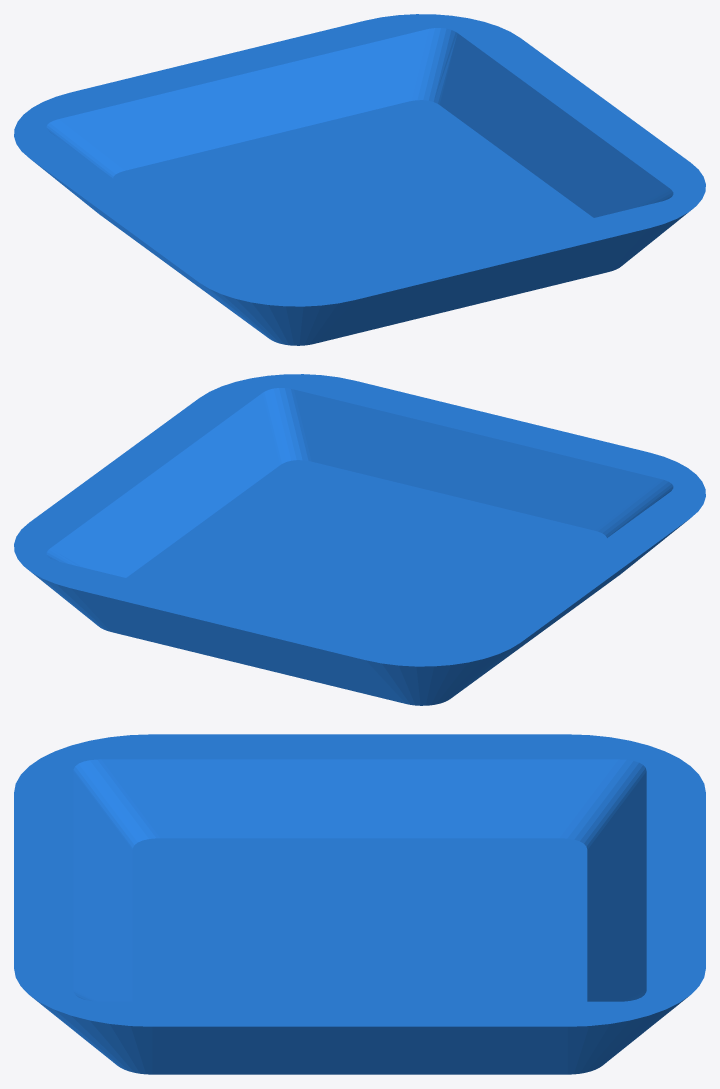
Rendered from FoodTrayBlue.dae.
The picture shows the model from 3 angles, top to bottom: view 1: azimuth 30°, elevation 25°; view 2: azimuth 150°, elevation 25°; view 3: azimuth 270°, elevation 25°; orthographic projection. The views are drawn at different scales.
Parts seen in each view (by area): view 1: Food_Tray_Blue2; view 2: Food_Tray_Blue2; view 3: Food_Tray_Blue2.
Boxes of the visible parts, x1,y1,x2,y2 form: Food_Tray_Blue2: (14,14,705,345); Food_Tray_Blue2: (14,374,705,705); Food_Tray_Blue2: (14,734,705,1074).
Bounding box in the file's own units: 0.35 × 0.35 × 0.05.
